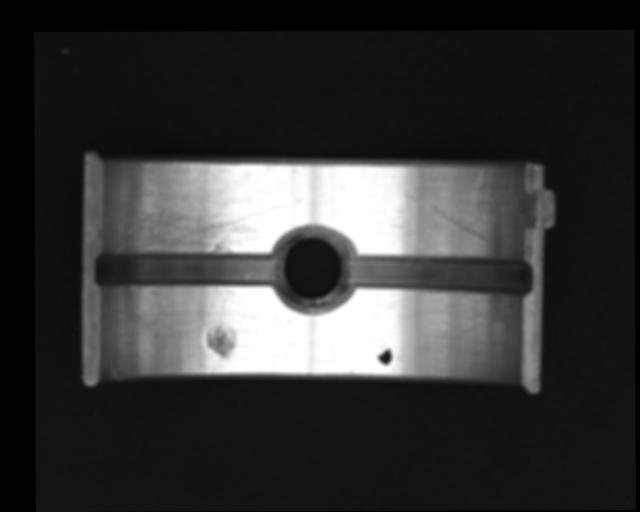blot: (377, 343, 392, 366)
bruise: (206, 324, 239, 357)
gap: (348, 254, 535, 298), (93, 249, 281, 289)
hole: (271, 225, 354, 315)
nick: (403, 189, 489, 243)
scratch: (109, 181, 285, 253)
